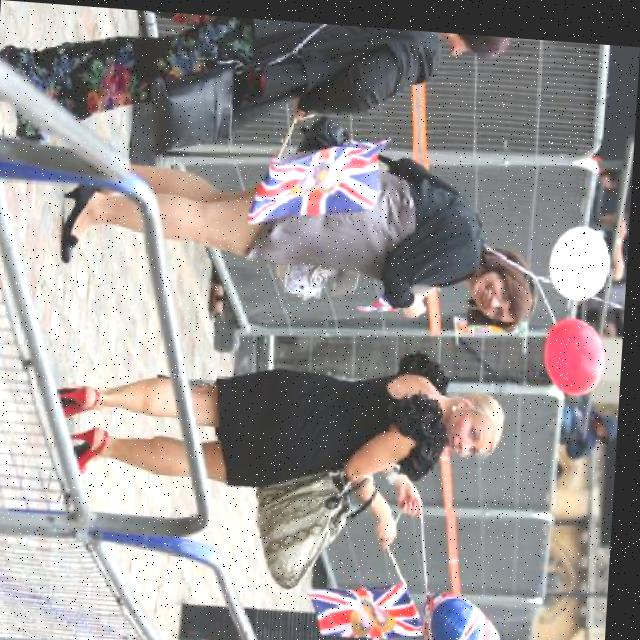balloon: (542, 306, 618, 393), (413, 576, 513, 640), (545, 213, 620, 294)
